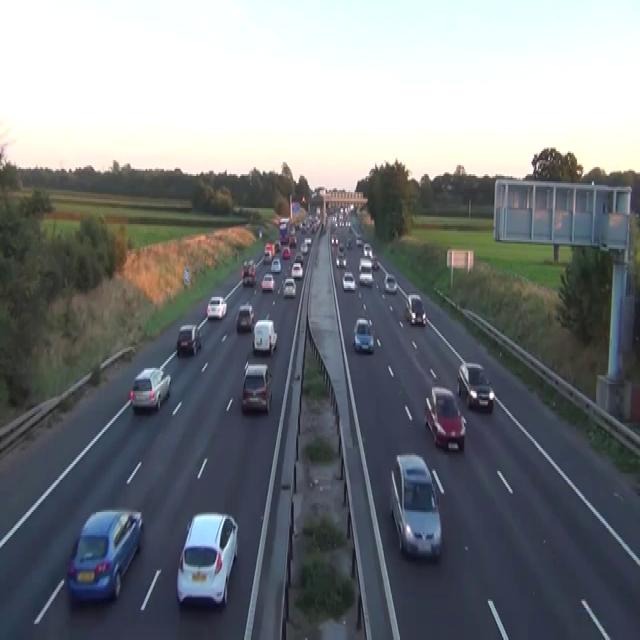Car: (66, 506, 143, 604), (176, 510, 238, 608), (390, 453, 442, 560), (424, 386, 466, 452), (129, 366, 171, 411), (457, 361, 494, 411), (241, 361, 272, 412), (252, 318, 277, 356), (176, 324, 201, 356), (353, 316, 374, 354), (405, 294, 426, 326), (206, 295, 227, 320), (236, 304, 254, 332), (362, 242, 379, 268), (241, 260, 256, 286), (358, 263, 373, 286), (260, 272, 275, 292), (282, 277, 296, 297), (342, 270, 356, 290), (384, 272, 397, 293), (358, 256, 372, 272), (291, 262, 303, 278), (270, 256, 281, 272), (335, 254, 346, 267), (281, 246, 291, 260), (279, 231, 289, 244), (363, 242, 372, 256), (370, 254, 379, 268), (263, 249, 271, 263), (264, 242, 272, 254), (294, 253, 303, 263), (300, 242, 308, 252), (330, 233, 338, 243), (337, 244, 345, 254), (289, 235, 297, 245), (346, 236, 352, 249), (274, 240, 280, 252), (355, 235, 362, 245), (289, 224, 295, 235), (304, 237, 311, 246), (321, 222, 326, 233), (258, 228, 262, 238), (301, 195, 305, 202)
Truck: (278, 217, 290, 243)
